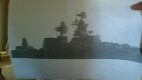tau_muctieu: (10, 9, 142, 64)
